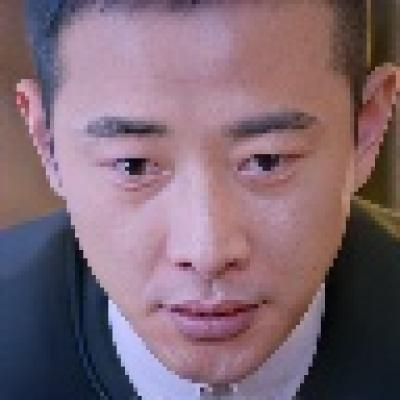sad: (43, 16, 362, 366)
